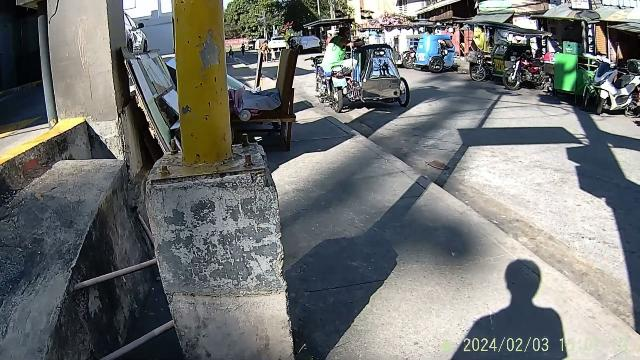motorcycle: (504, 56, 544, 90)
tricycle: (304, 13, 412, 111), (464, 12, 548, 90), (408, 29, 464, 74)
utility_post: (140, 0, 294, 360)
